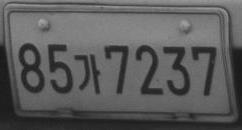2: (134, 44, 163, 95)
3: (164, 45, 191, 96)
5: (47, 43, 73, 94)
7: (191, 45, 217, 95), (104, 44, 129, 94)
8: (17, 42, 45, 94)
가: (74, 54, 101, 94)
